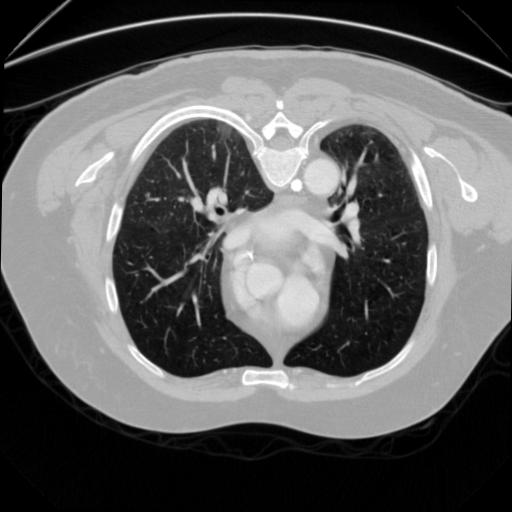nodule: (142, 191, 153, 202)
